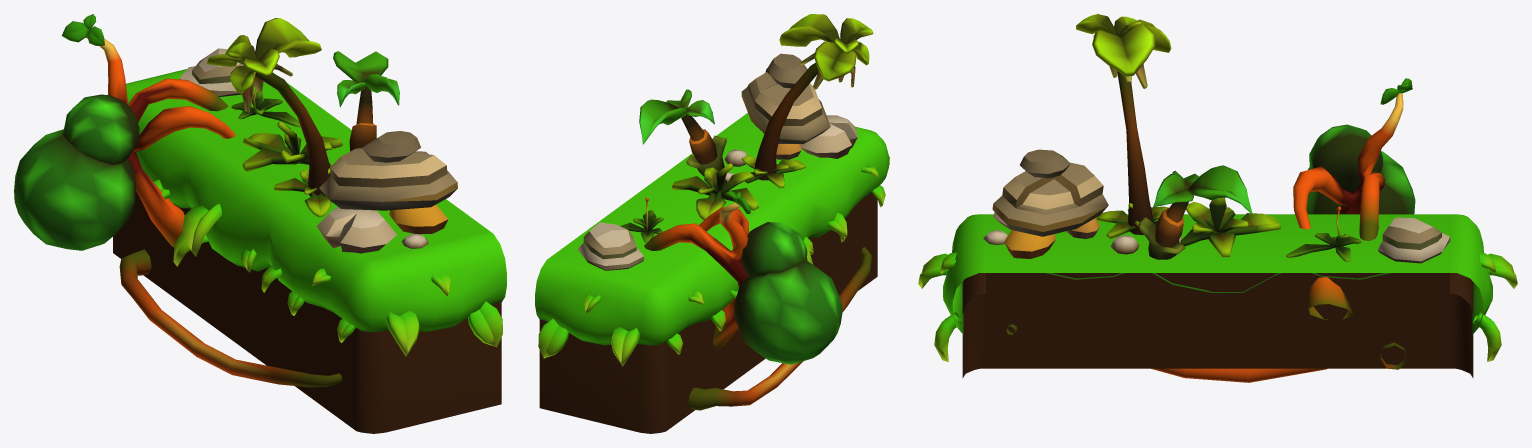
File: Island_02.fbx
3 views of the same model, side by side, from view 1: azimuth 30°, elevation 25°; view 2: azimuth 150°, elevation 25°; view 3: azimuth 270°, elevation 25° (orthographic). The views are drawn at different scales.
Parts seen in each view (by area): view 1: Island_02; view 2: Island_02; view 3: Island_02.
Part boxes in pixels (x1,y1,x2,y2): Island_02: (14, 14, 506, 433); Island_02: (535, 14, 889, 433); Island_02: (918, 14, 1517, 382).
Size of the model in its own units: 4260 by 5210 by 7768.
